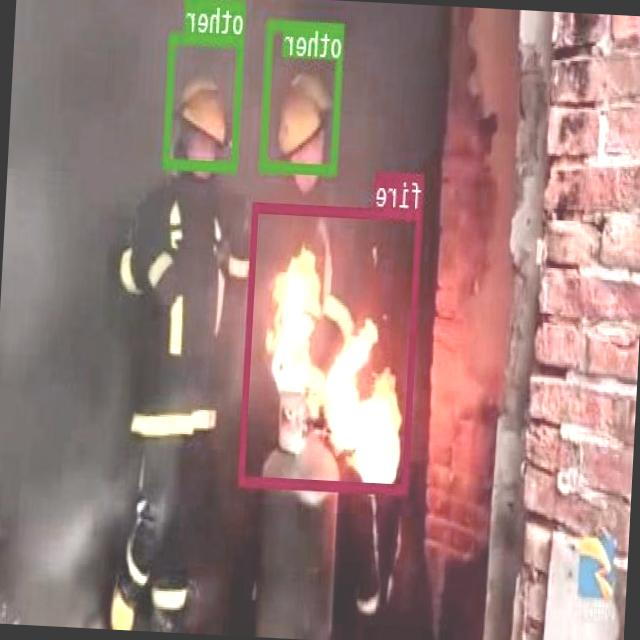fire: (239, 200, 424, 493)
